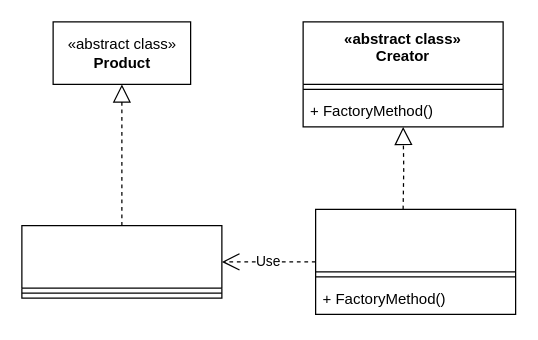
This 538x340 diagram has some shape labels left out. The shapes that lost their labels are listed below. From the top down, each one's box as (x1, y1, x2, y2) in pixels, then its label:
(21, 224, 222, 298): «class» ConcreteProduct
(314, 208, 516, 314): «class» ConcreteCreator
